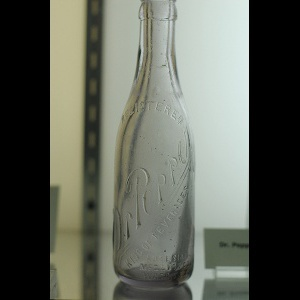emptybottle: (114, 1, 196, 291)
